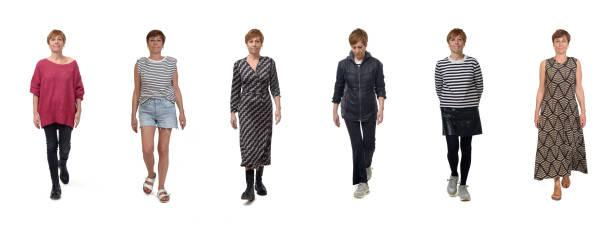Shorts: (137, 98, 178, 131)
dress: (533, 56, 589, 180), (228, 55, 281, 167)
jacket: (330, 51, 386, 122)
skirt: (439, 107, 483, 137)
sweater: (29, 56, 84, 129), (433, 55, 485, 109)
trousers: (344, 116, 377, 186), (42, 122, 72, 183)
vest: (135, 56, 179, 106)
